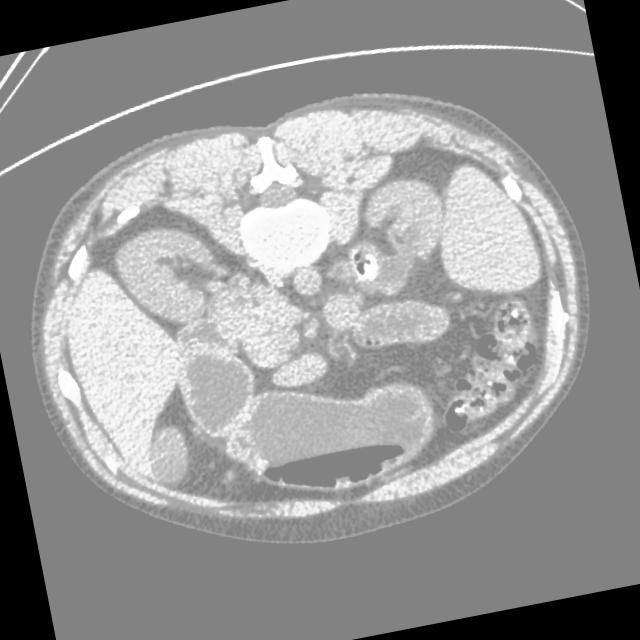STONE: (123, 245, 598, 567)
